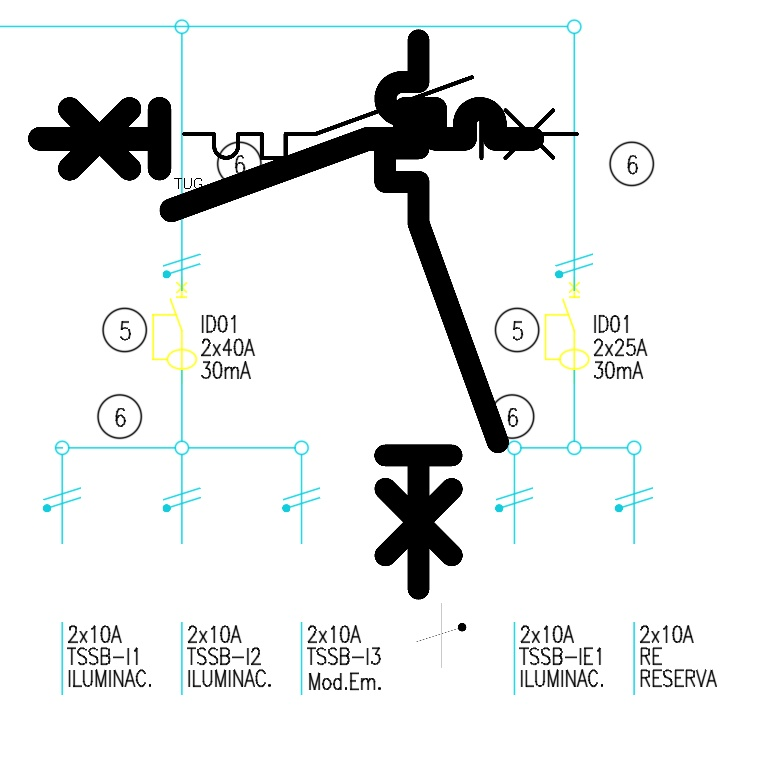interruptor_termomagnetico: (371, 26, 512, 602), (27, 96, 545, 223), (174, 67, 587, 168)
